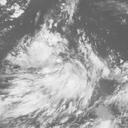cyclone: (26, 30, 90, 97)
